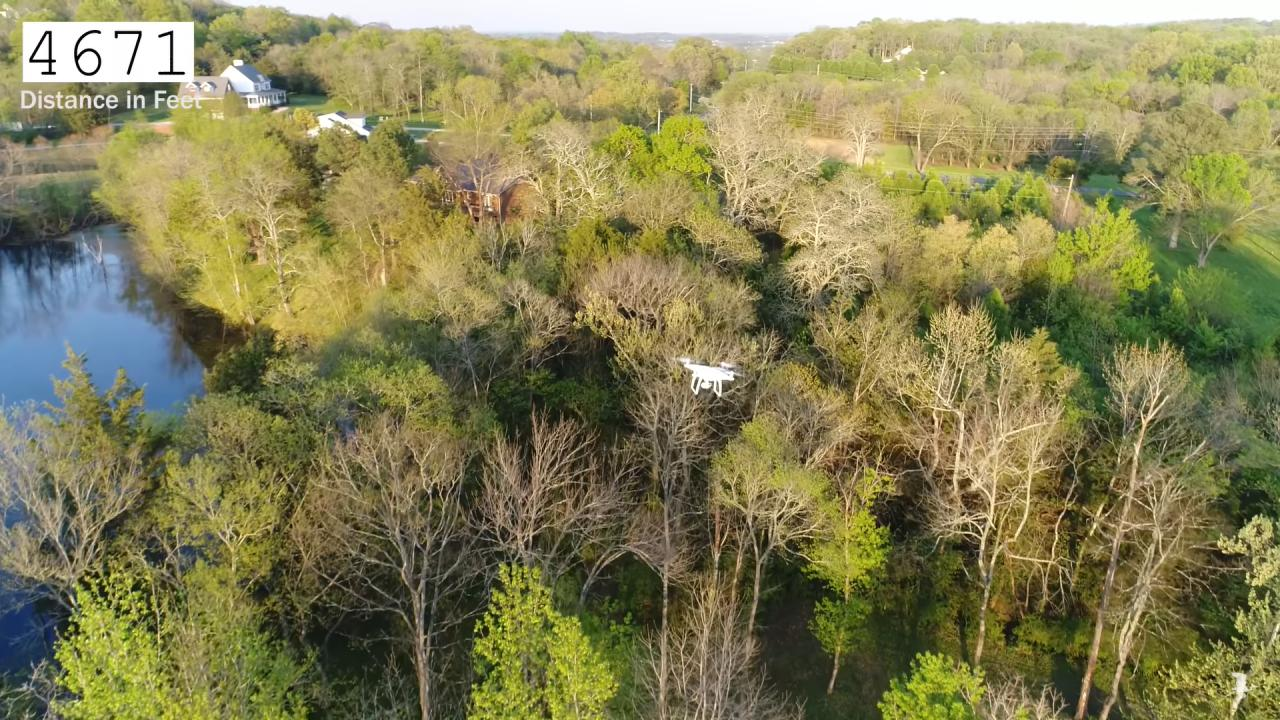Drone: (669, 351, 746, 404)
